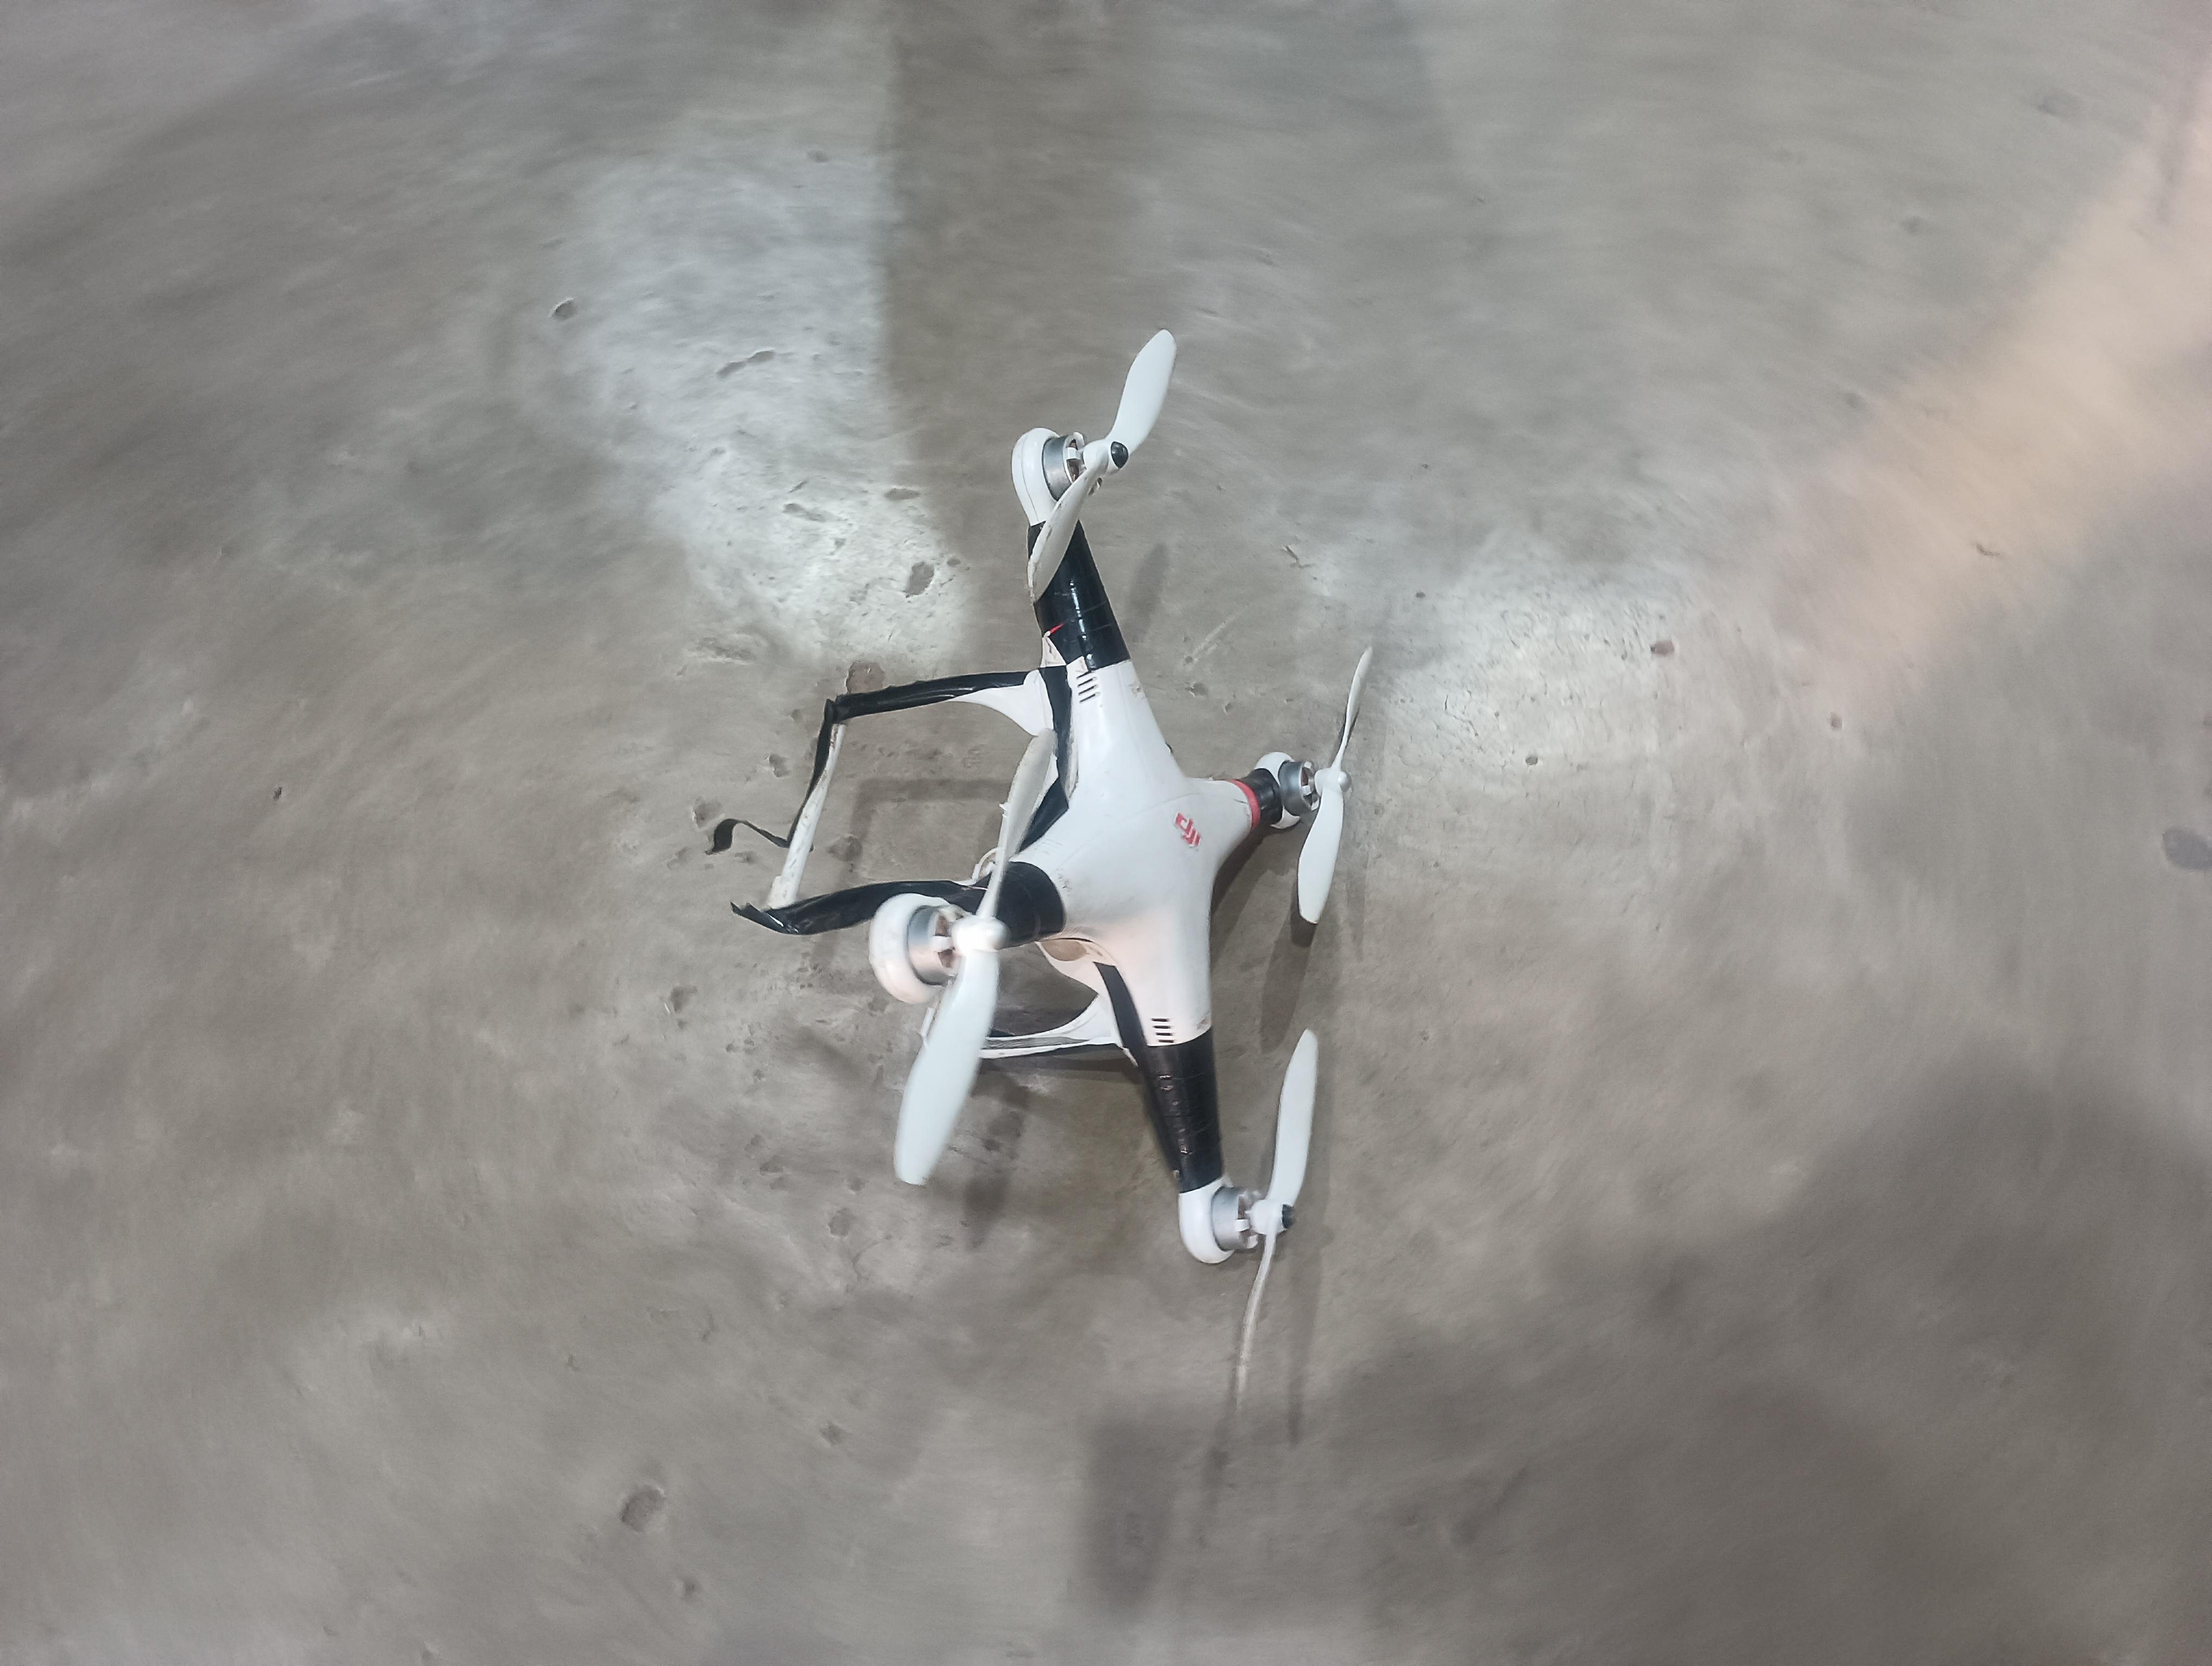drone: (694, 324, 1383, 1412)
